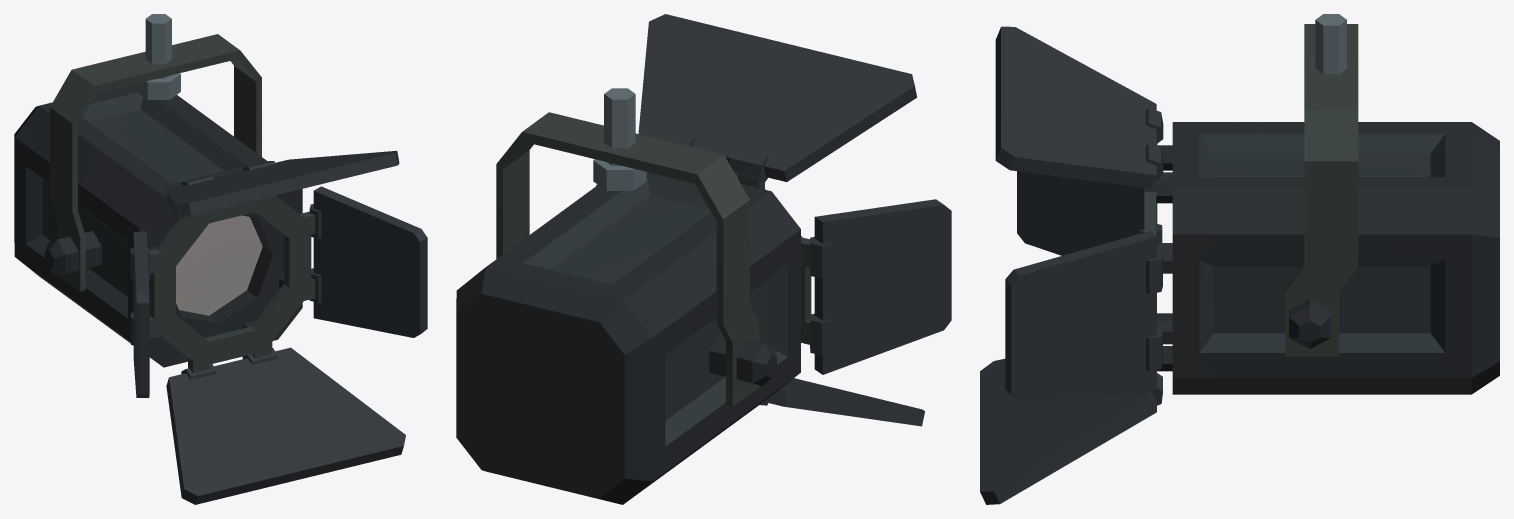
File: spotlight.glb
3 renders of one model, left to right at view 1: azimuth 30°, elevation 25°; view 2: azimuth 150°, elevation 25°; view 3: azimuth 270°, elevation 25°, orthographic. The views are drawn at different scales.
Parts seen in each view (by area): view 1: SM_Prop_Spotlight_01; view 2: SM_Prop_Spotlight_01; view 3: SM_Prop_Spotlight_01.
Boxes of the visible parts, bbox=[...] form: SM_Prop_Spotlight_01: bbox=[14, 14, 427, 504]; SM_Prop_Spotlight_01: bbox=[456, 14, 951, 504]; SM_Prop_Spotlight_01: bbox=[980, 14, 1499, 504].
Bounding box in the file's own units: 59.31 × 70.48 × 77.76.
Materials: 1 (1 with a texture image).
